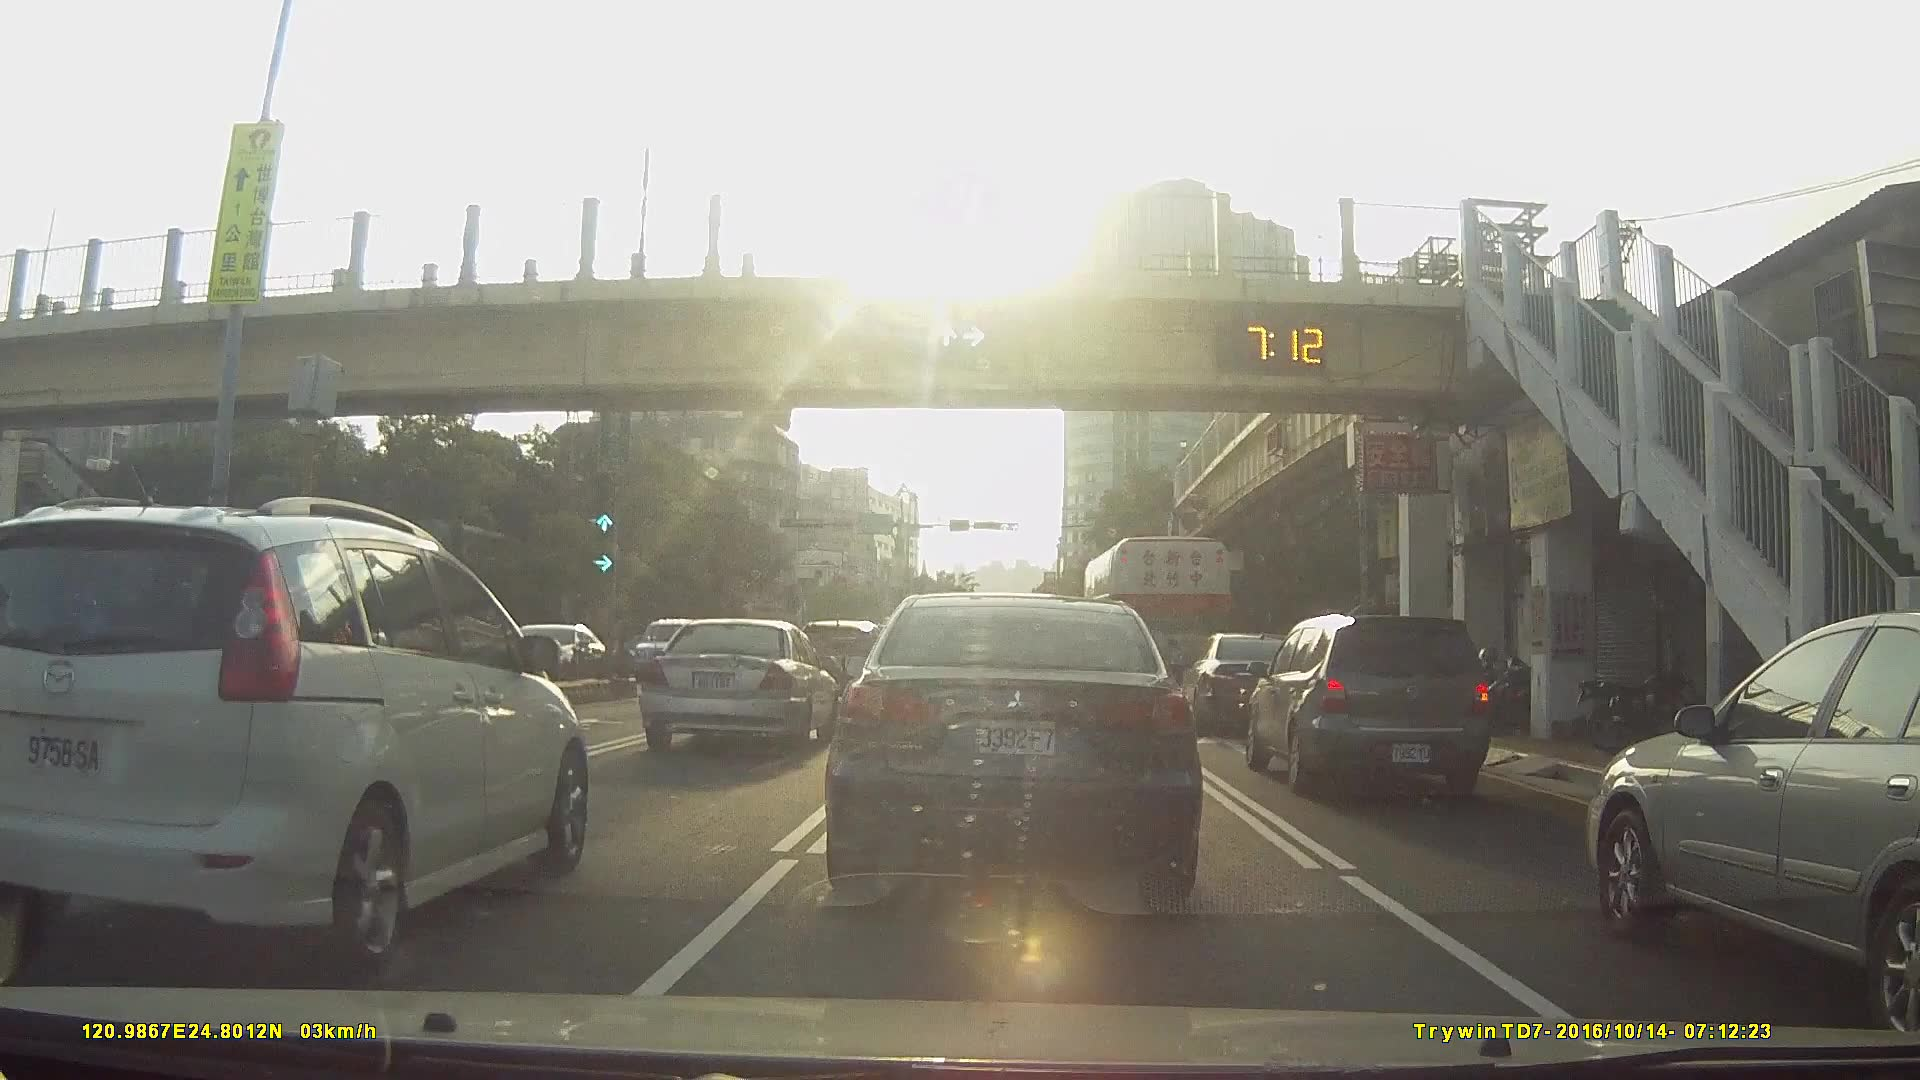vehicle: (0, 493, 593, 961), (1585, 607, 1920, 1035), (822, 585, 1200, 919), (1238, 611, 1490, 796), (640, 615, 840, 754), (1185, 632, 1309, 733), (488, 618, 626, 699), (767, 608, 862, 695), (622, 616, 717, 680)
